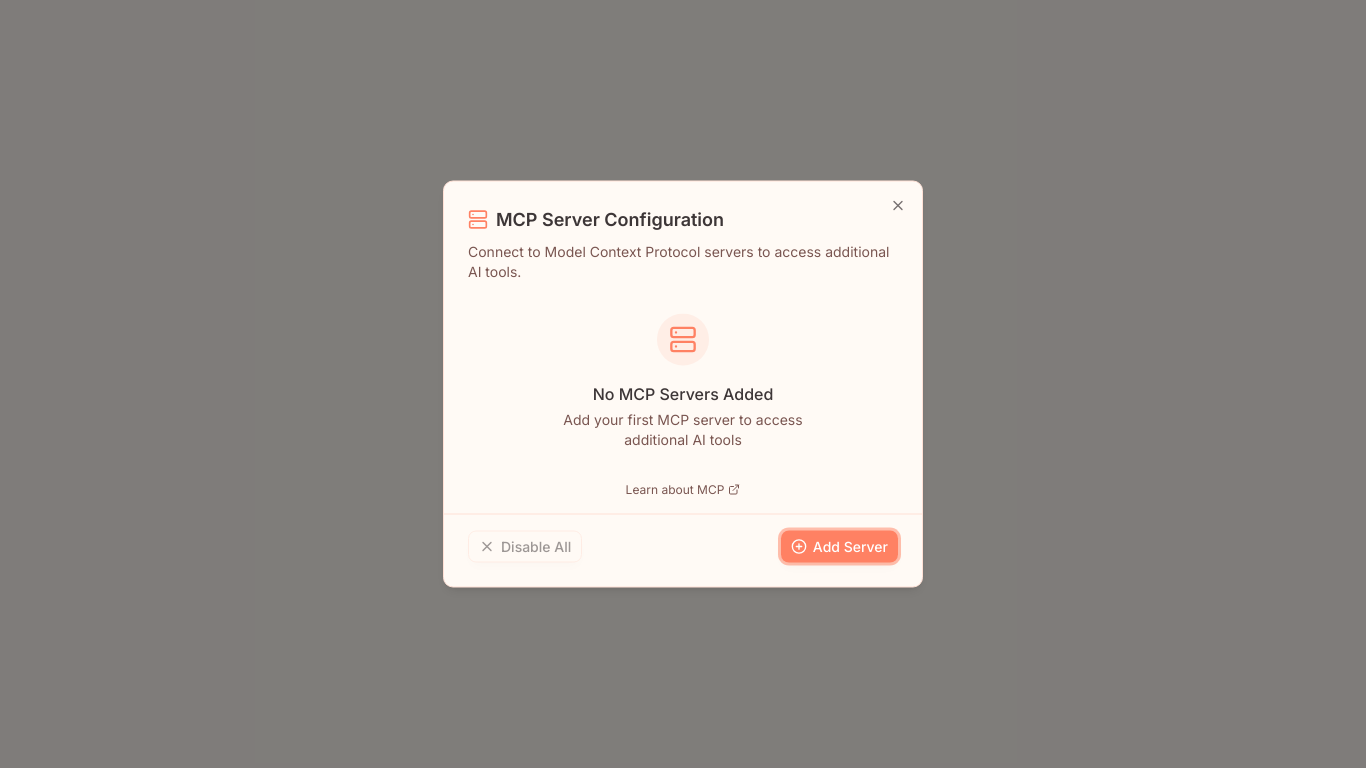
Test case: MCPServerManager Component › Add Server Form › renders transport type selection buttons
This screenshot has width=1366, height=768.
Click the button "Add Server" at coordinates (839, 546), box [781,530,898,562]
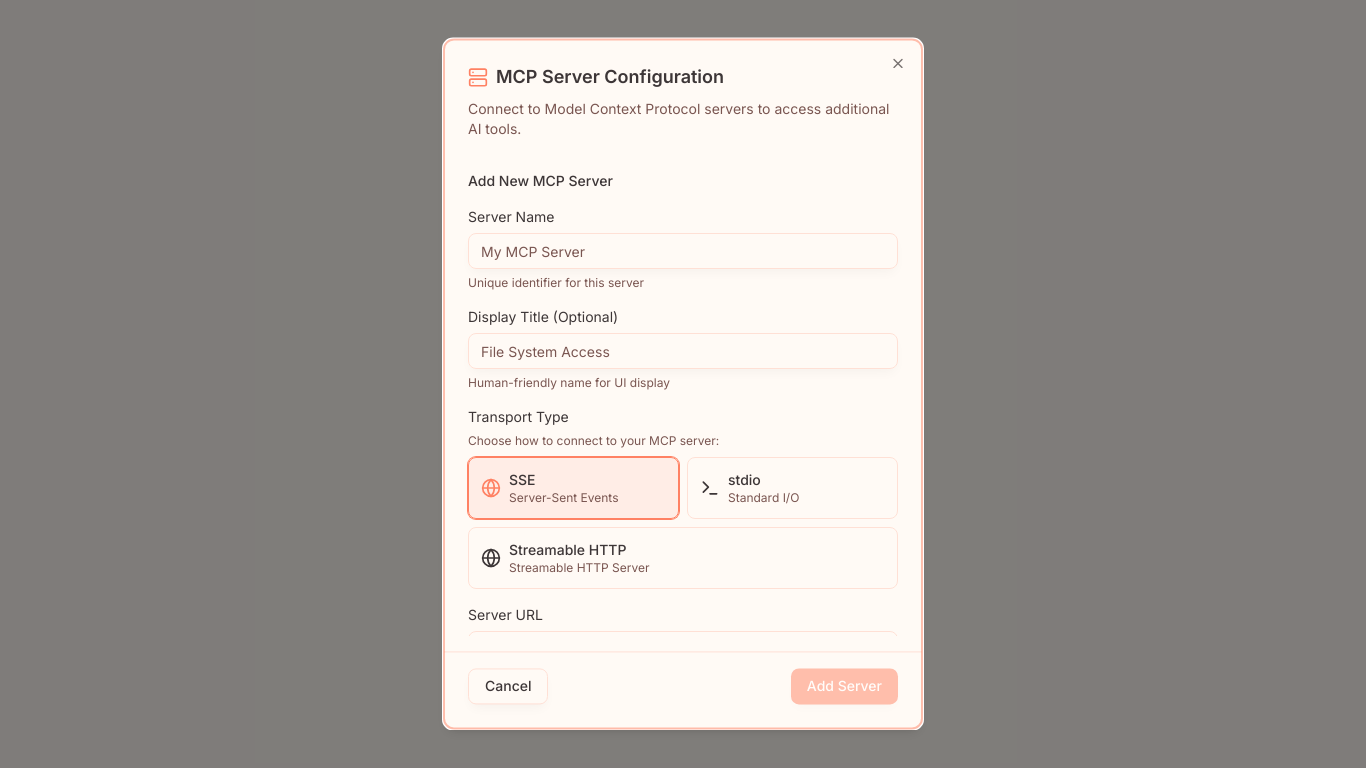
Now the text "SSE" is shown, box [509,471,536,488]
Now the text "stdio" is shown, box [728,471,761,488]
Now the text "Streamable HTTP" is shown, box [509,541,626,558]
